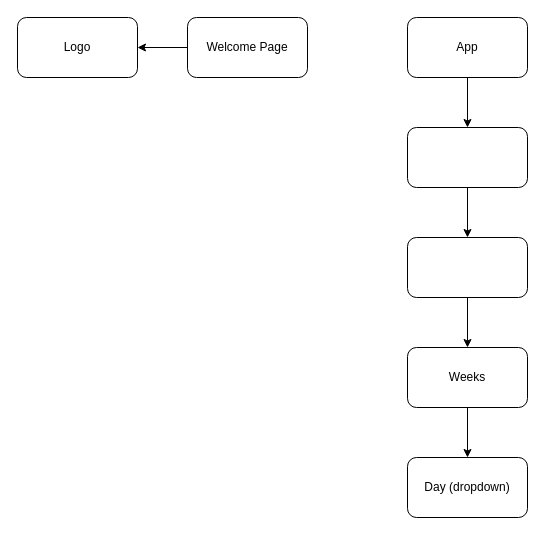
The diagram is 545 pixels wide and 535 high, and some of its shapes have lost their labels. The shapes that lost their labels are listed below. From the top down, each one's box as (x1, y1, x2, y2) in pixels, then its label:
(406, 126, 528, 188): Timeline Page
(406, 236, 528, 298): Timeline
